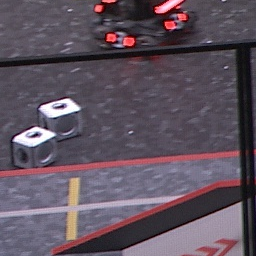Red: (105, 30, 135, 48), (165, 11, 186, 33)
Robot: (92, 1, 199, 55)
